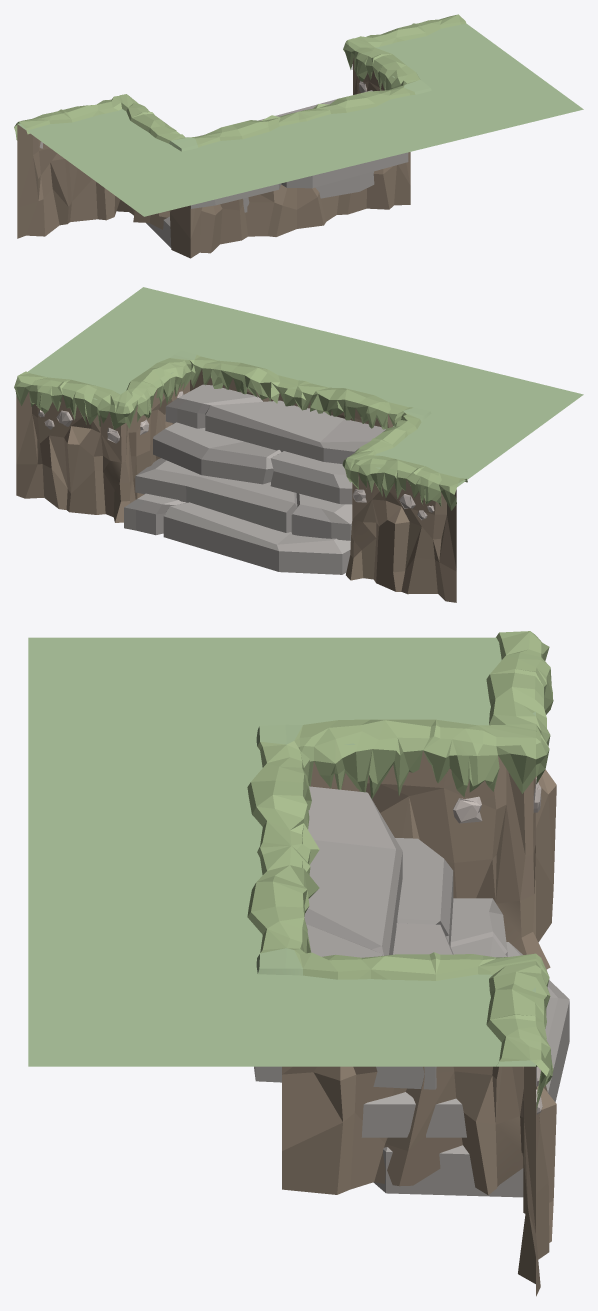
File: ER_Asset_TERRAINB(only)_Stairs_4x2.fbx
3 views of the same model, one above another, from view 1: azimuth 30°, elevation 25°; view 2: azimuth 150°, elevation 25°; view 3: azimuth 270°, elevation 25° (orthographic). The views are drawn at different scales.
Parts seen in each view (by area): view 1: pCube766; view 2: pCube766; view 3: pCube766.
Boxes of the visible parts, x1,y1,x2,y2 form: pCube766: [14, 14, 583, 258]; pCube766: [14, 287, 583, 602]; pCube766: [28, 631, 569, 1296].
Bounding box in the file's own units: 4 × 1.1 × 2.13.
